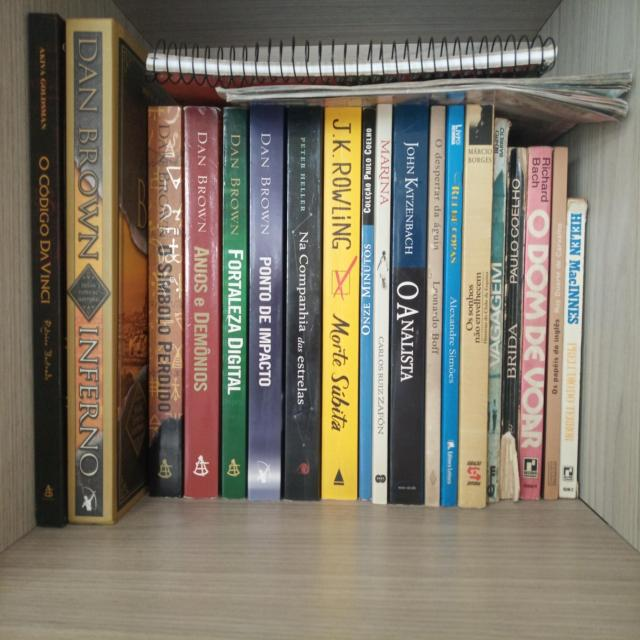book: (66, 26, 107, 520), (184, 110, 217, 492), (148, 112, 180, 494), (34, 22, 58, 522), (288, 110, 316, 500), (326, 105, 354, 494), (250, 108, 276, 501), (398, 109, 421, 504), (222, 108, 240, 498), (445, 110, 459, 504), (568, 203, 580, 497)
